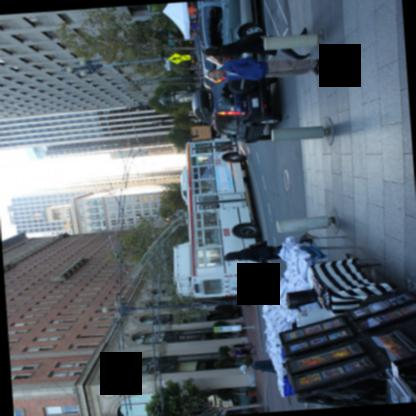handbag: (241, 239, 267, 249), (241, 31, 265, 41)
